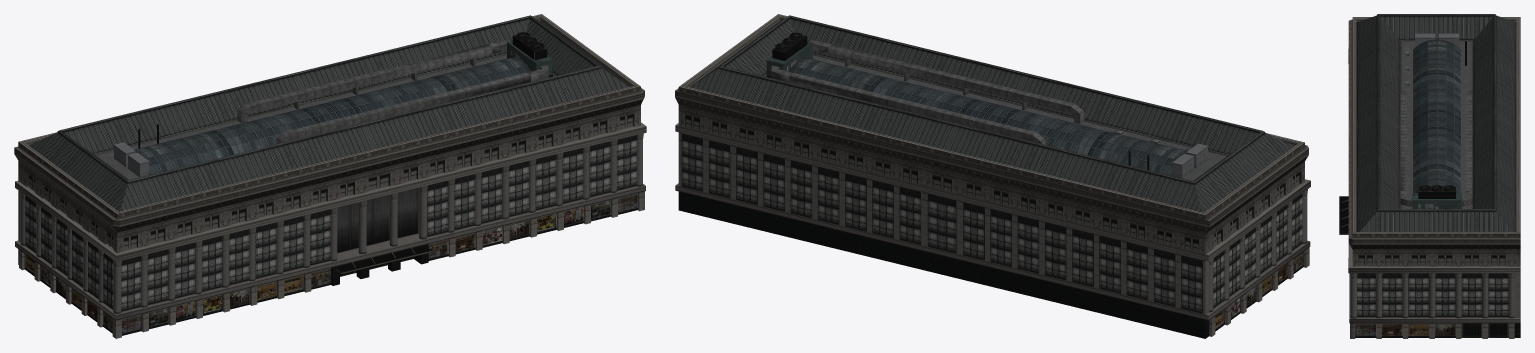
The model's file is AIT01W2W6.FBX.
The picture shows the model from 3 angles, left to right: view 1: azimuth 30°, elevation 25°; view 2: azimuth 150°, elevation 25°; view 3: azimuth 270°, elevation 25°; orthographic projection. The views are drawn at different scales.
Visible parts, largest first — view 1: AIT01W2W6; view 2: AIT01W2W6; view 3: AIT01W2W6.
Boxes of the visible parts, x1,y1,x2,y2 form: AIT01W2W6: [14, 14, 646, 338]; AIT01W2W6: [675, 14, 1310, 338]; AIT01W2W6: [1339, 14, 1520, 338].
Bounding box in the file's own units: 9421 × 2499 × 3279.
1 material, 1 textured.
